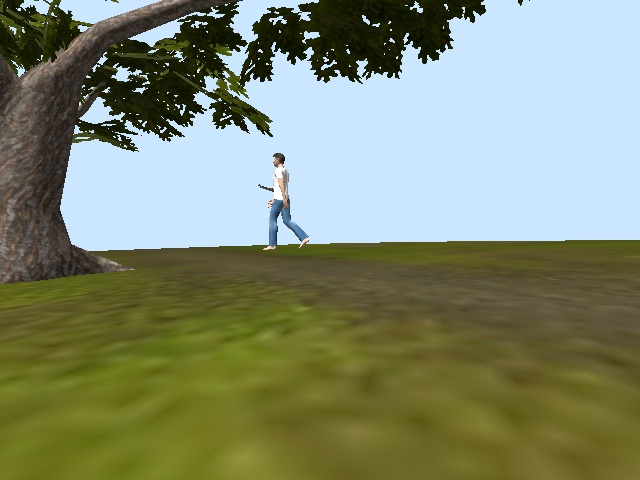animal: (260, 152, 310, 251)
rifle: (255, 181, 274, 193)
